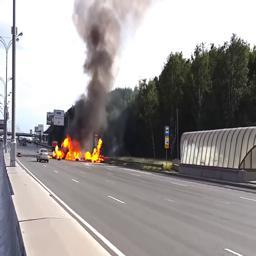fire: (53, 135, 103, 163)
